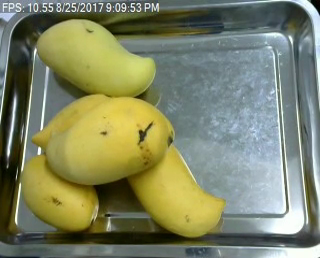Mango: (45, 97, 170, 188), (31, 18, 160, 98), (124, 139, 222, 236), (18, 152, 99, 228)
